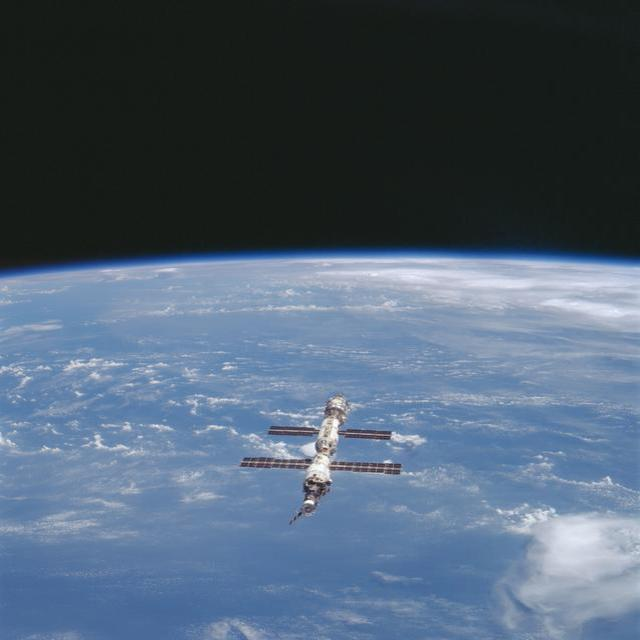satellite: (240, 394, 401, 521)
